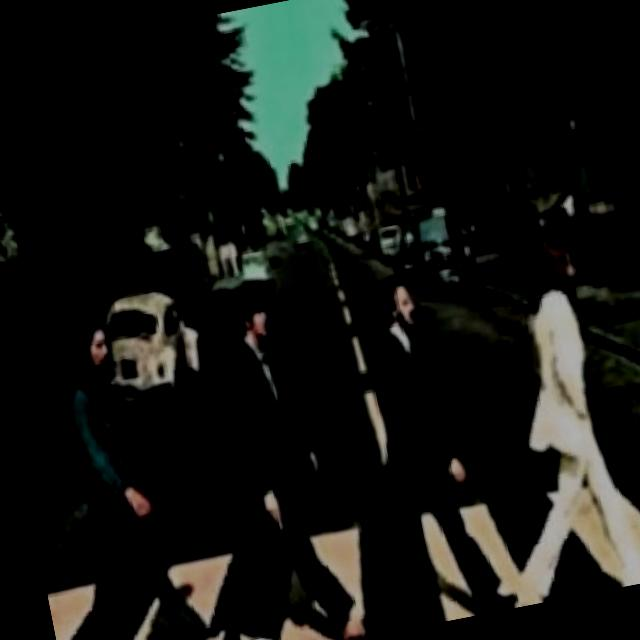Person: (15, 287, 236, 640), (310, 264, 520, 634), (447, 217, 640, 606), (168, 275, 371, 640)
